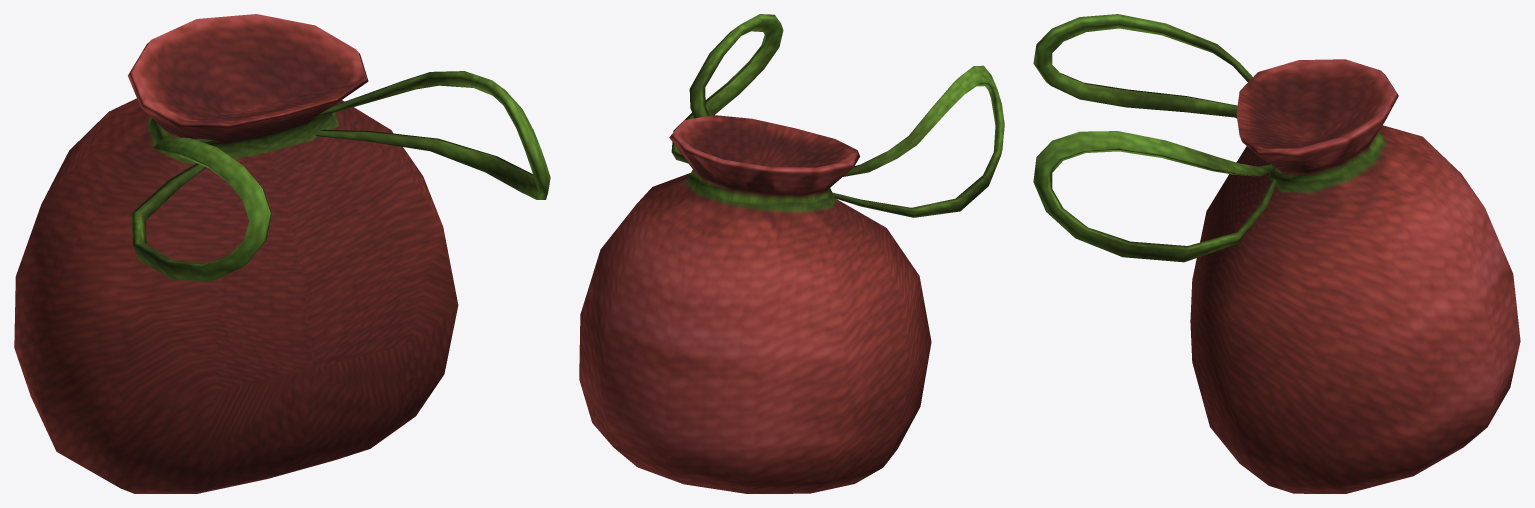
Rendered from SM_SantabagA.FBX.
The picture shows the model from 3 angles, left to right: view 1: azimuth 30°, elevation 25°; view 2: azimuth 150°, elevation 25°; view 3: azimuth 270°, elevation 25°; orthographic projection. The views are drawn at different scales.
Visible parts, largest first — view 1: SM_SantabagA; view 2: SM_SantabagA; view 3: SM_SantabagA.
Part boxes in pixels (x1=…): SM_SantabagA: x1=14, y1=14, x2=550, y2=493; SM_SantabagA: x1=579, y1=14, x2=1004, y2=493; SM_SantabagA: x1=1033, y1=14, x2=1520, y2=493.
Bounding box in the file's own units: 47.89 × 59.92 × 51.26.
